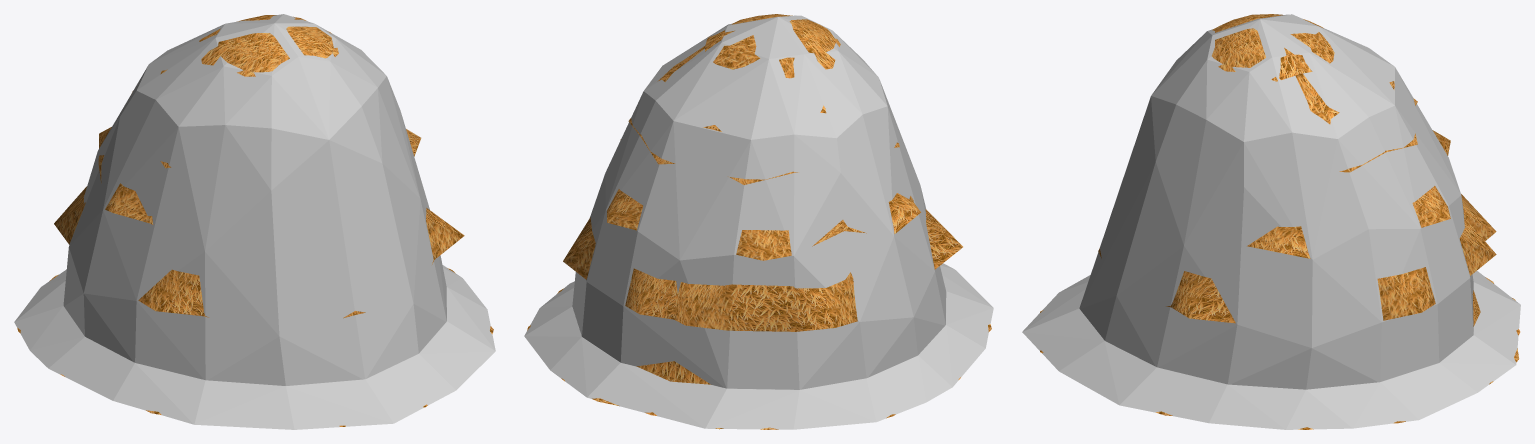
File: SM_HayStack03.fbx
3 renders of one model, left to right at view 1: azimuth 30°, elevation 25°; view 2: azimuth 150°, elevation 25°; view 3: azimuth 270°, elevation 25°, orthographic. The views are drawn at different scales.
Visible parts, largest first — view 1: SM_HayStack03_ConvexHulls, SM_HayStack03; view 2: SM_HayStack03_ConvexHulls, SM_HayStack03; view 3: SM_HayStack03_ConvexHulls, SM_HayStack03.
Part boxes in pixels (x1,y1,x2,y2): SM_HayStack03_ConvexHulls: (14, 14, 495, 429); SM_HayStack03: (17, 15, 493, 426); SM_HayStack03_ConvexHulls: (524, 15, 993, 429); SM_HayStack03: (527, 14, 991, 429); SM_HayStack03_ConvexHulls: (1022, 14, 1520, 429); SM_HayStack03: (1040, 14, 1520, 429).
Bounding box in the file's own units: 243 × 261 × 180.
Materials: 2 (1 with a texture image).
